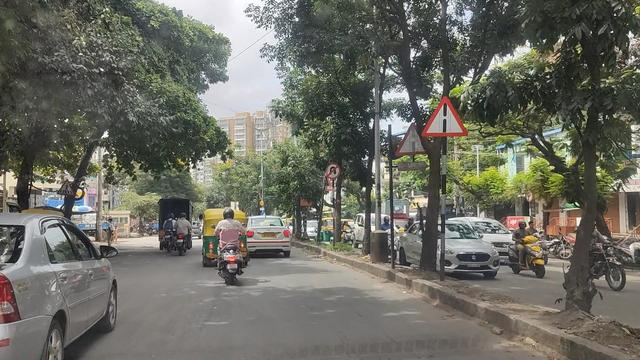LMV: (4, 211, 122, 360), (221, 209, 247, 284)
